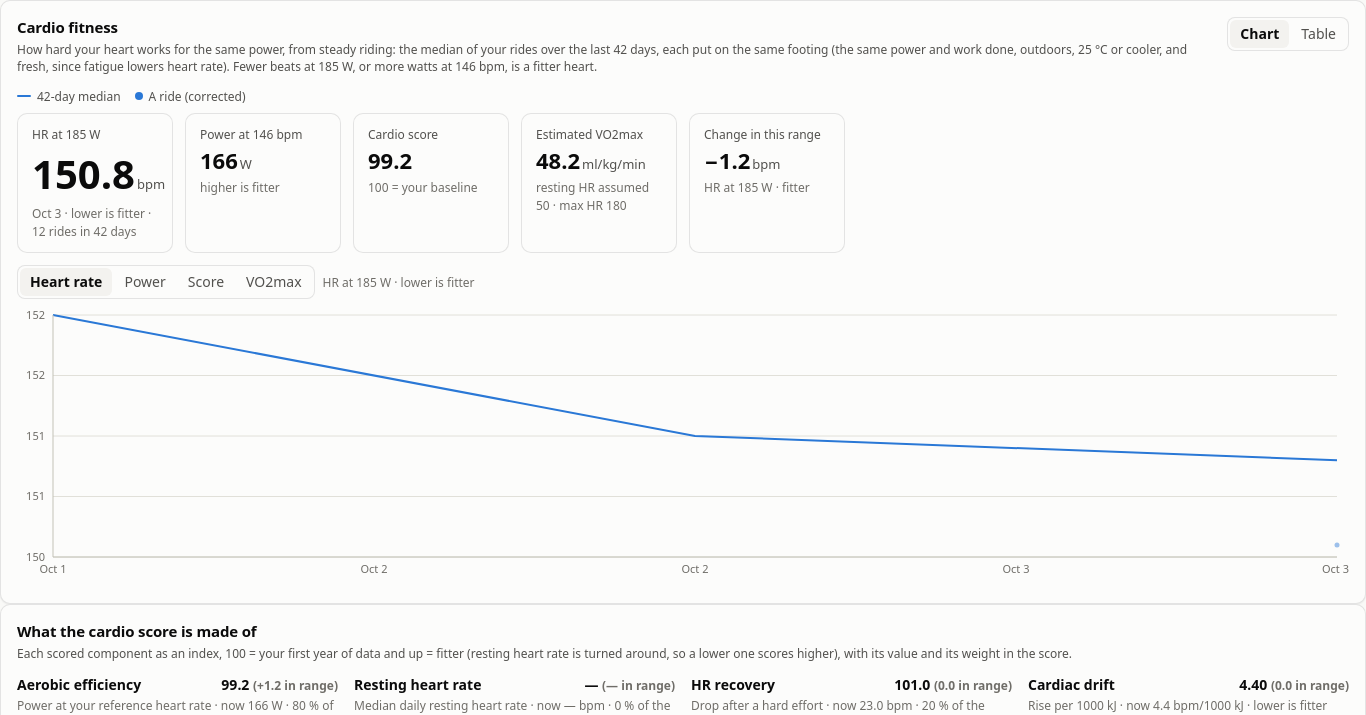
Test case: shows heart rate at the reference power, the corrections and each ride
expect the text "HR at 185 W" is shown: met, box x1=32 y1=126 x2=100 y2=143
expect the text "150.8" is shown: met, box x1=32 y1=146 x2=135 y2=201
Click the button "Power" at [145, 282], box x1=114 y1=268 x2=176 y2=296
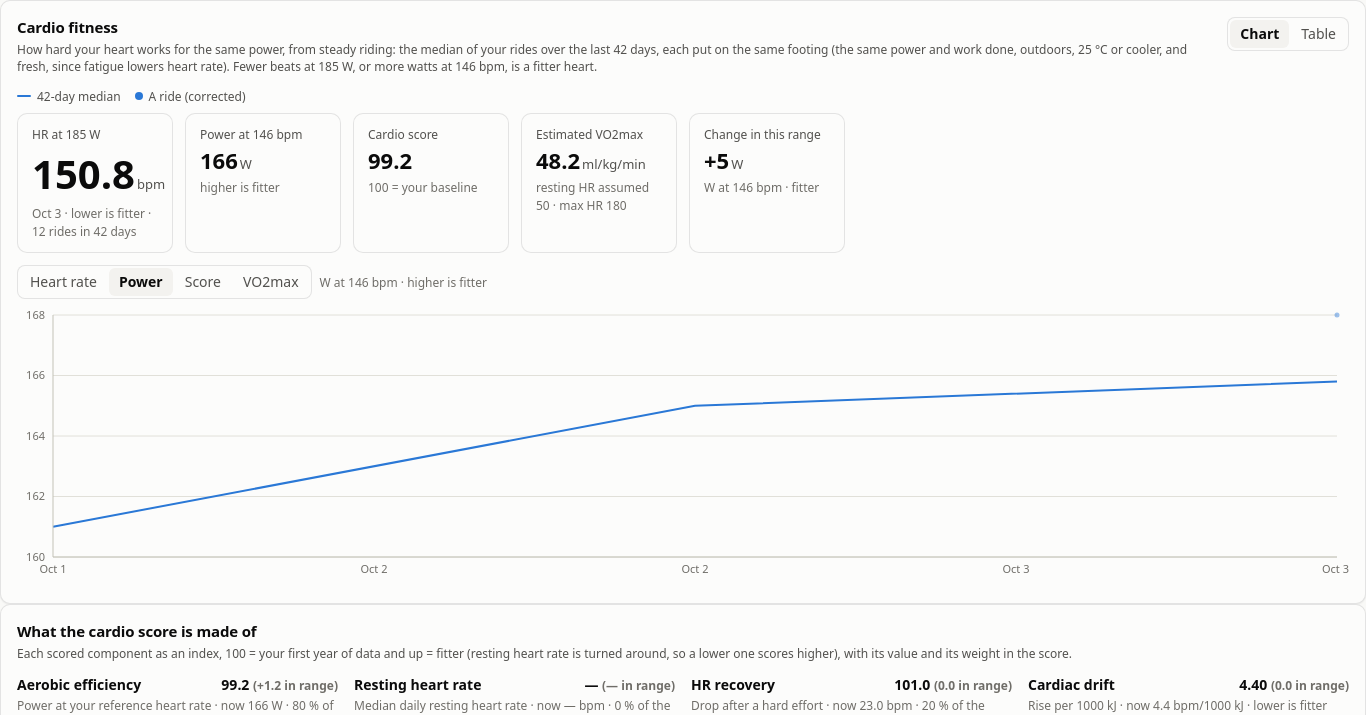
expect the text "W at 146 bpm · fitter" is shown: met, box x1=704 y1=179 x2=830 y2=197
